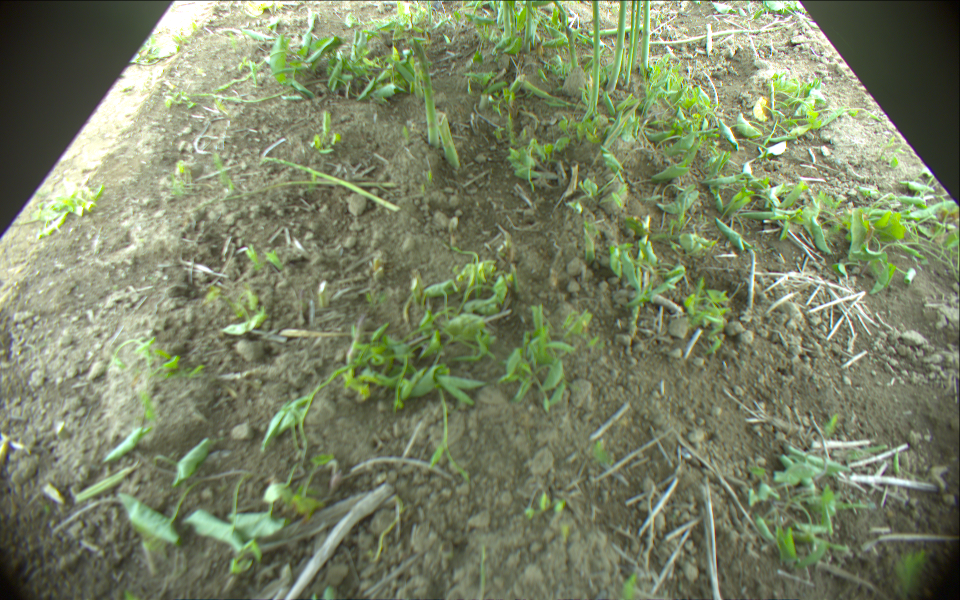aspa: (264, 159, 400, 213), (215, 180, 397, 203), (646, 23, 790, 45), (414, 37, 439, 146), (585, 1, 601, 119), (607, 1, 626, 91), (436, 111, 462, 169), (641, 1, 654, 71), (564, 25, 581, 75), (626, 1, 635, 89), (578, 24, 649, 35), (631, 1, 641, 71), (590, 24, 646, 35), (704, 23, 713, 56)
